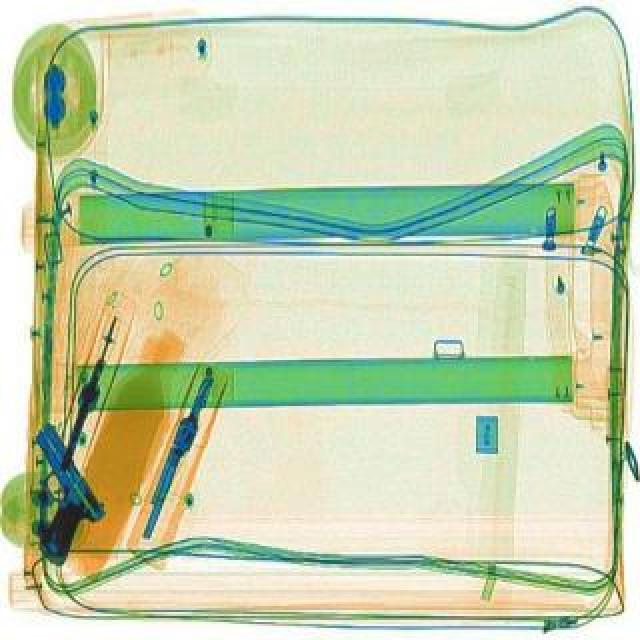gun: (132, 370, 222, 542), (10, 418, 112, 558), (50, 310, 124, 472)
